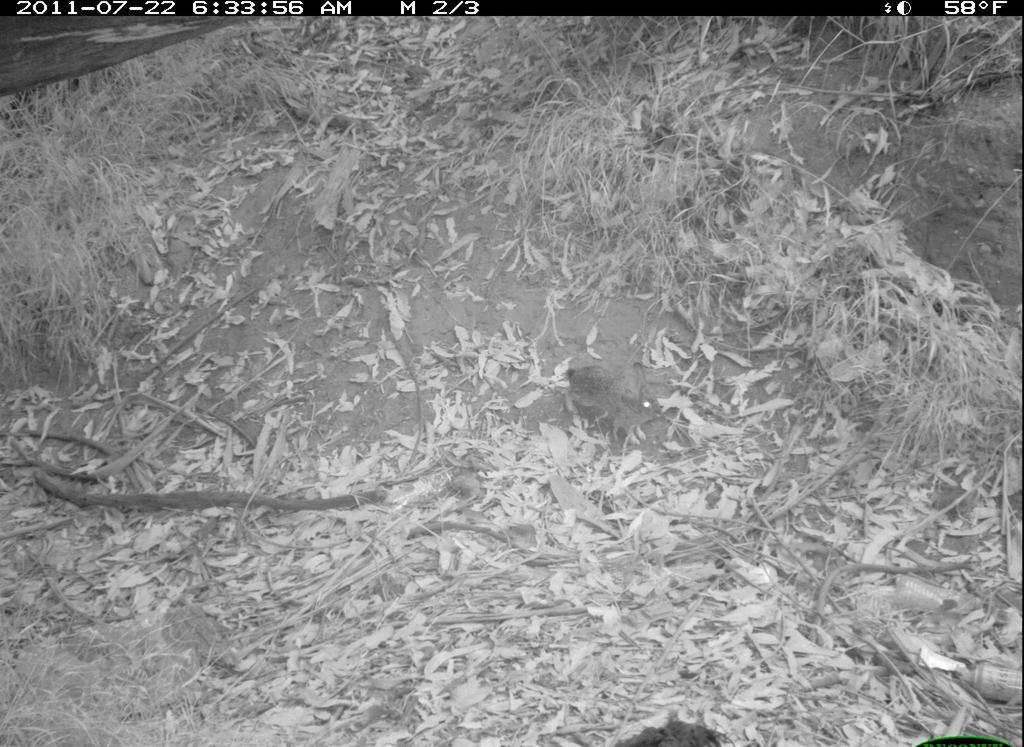rabbit: (557, 350, 670, 452)
